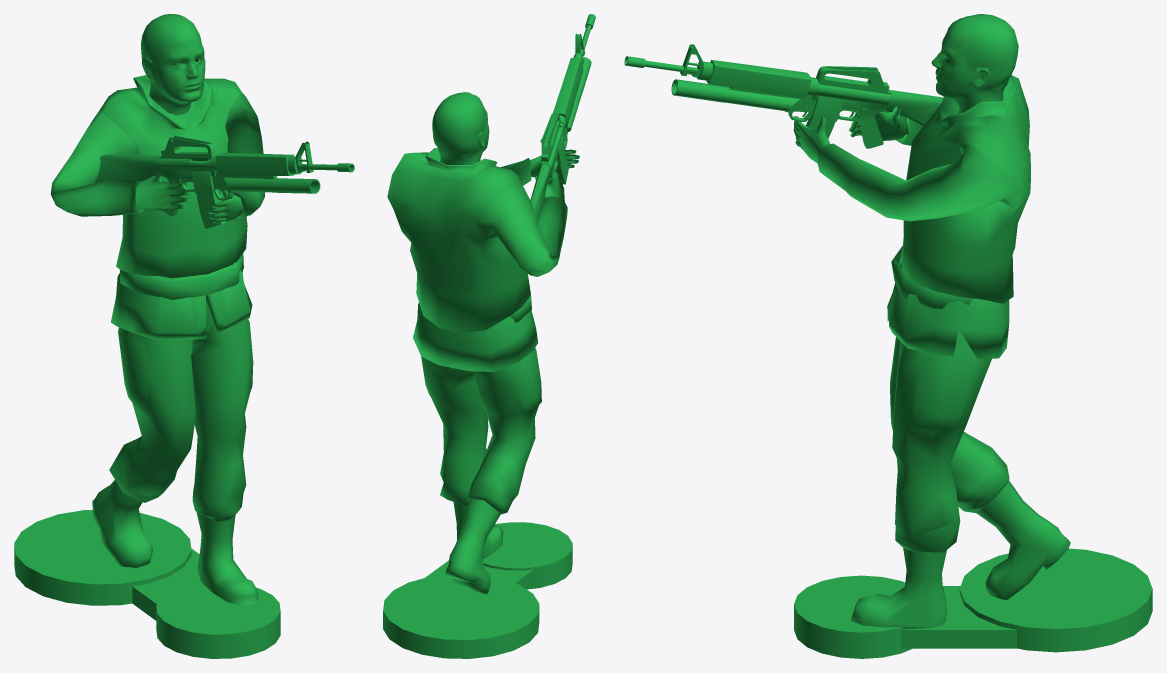
Rendered from green_army_man.obj.
3 views of the same model, side by side, from view 1: azimuth 30°, elevation 25°; view 2: azimuth 150°, elevation 25°; view 3: azimuth 270°, elevation 25° (orthographic). The views are drawn at different scales.
Parts seen in each view (by area): view 1: null_4, polySurface1, null_, polySurface2, null_1, null_5, null_7, null_8, null_6, null_3; view 2: null_, polySurface1, null_4, null_1, null_7, polySurface2, null_5, null_8, null_3; view 3: polySurface1, null_4, null_, polySurface2, null_5, null_1, null_7, null_8, null_3, null_6.
Boxes of the visible parts, x1,y1,x2,y2 form: null_4: (109, 301, 253, 521); polySurface1: (14, 510, 280, 658); null_: (100, 75, 247, 278); polySurface2: (94, 136, 354, 228); null_1: (50, 92, 264, 217); null_5: (92, 480, 258, 606); null_7: (111, 270, 252, 339); null_8: (141, 14, 205, 115); null_6: (119, 253, 243, 299); null_3: (135, 176, 242, 223); null_: (392, 148, 530, 332); polySurface1: (383, 522, 572, 658); null_4: (421, 348, 541, 514); null_1: (387, 158, 567, 276); null_7: (413, 303, 538, 371); polySurface2: (530, 14, 595, 224); null_5: (445, 499, 503, 594); null_8: (432, 92, 489, 164); null_3: (530, 149, 579, 201); polySurface1: (794, 548, 1152, 658); null_4: (890, 337, 1009, 552); null_: (901, 75, 1030, 304); polySurface2: (624, 44, 943, 148); null_5: (851, 480, 1070, 629); null_1: (817, 100, 1020, 221); null_7: (887, 262, 1009, 358); null_8: (931, 14, 1018, 113); null_3: (793, 106, 907, 163); null_6: (891, 246, 972, 308).
Bounding box in the file's own units: 25.38 × 73.18 × 56.67.
